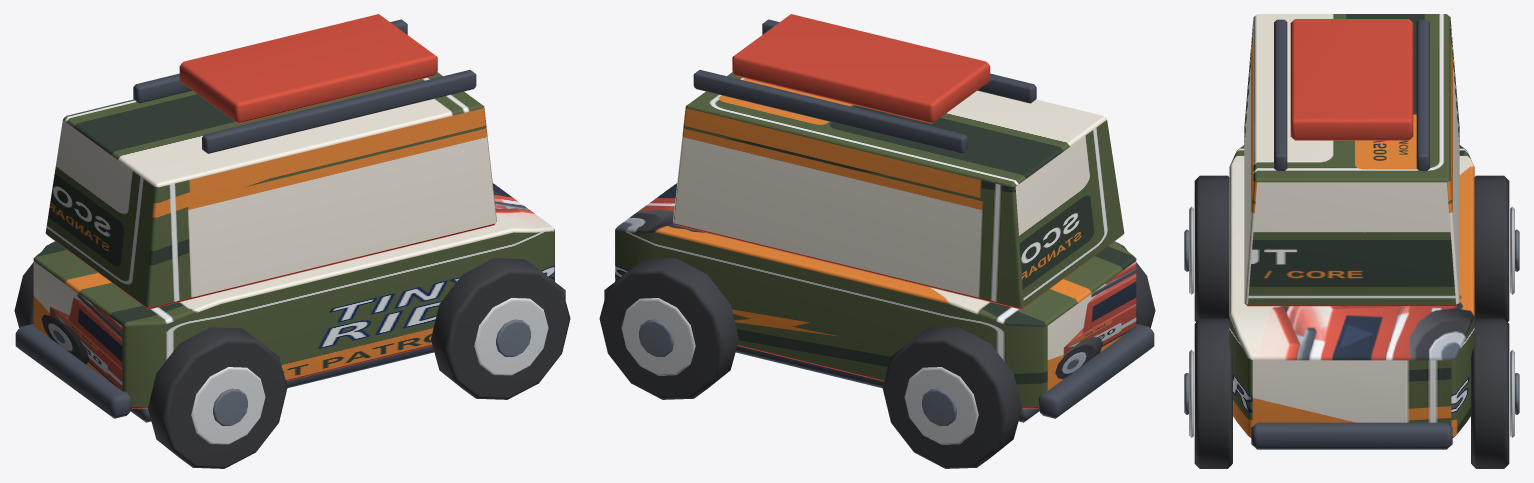
3 views of the same model, side by side, from view 1: azimuth 30°, elevation 25°; view 2: azimuth 150°, elevation 25°; view 3: azimuth 270°, elevation 25° (orthographic). The views are drawn at different scales.
Visible parts, largest first — view 1: DP-05_cabin, DP-05_connected_shell, utility load, Tire, Tire.002, utility rail, front bumper, Rim, Rim.002, underbody, utility rail.001, Hub.002 (+2 smaller); view 2: DP-05_cabin, DP-05_connected_shell, utility load, Tire.001, Tire.003, utility rail.001, front bumper, Rim.001, Rim.003, underbody, utility rail, Hub.003 (+2 smaller); view 3: DP-05_cabin, DP-05_connected_shell, utility load, Tire.002, Tire.003, rear bumper, Tire, Tire.001, utility rail, utility rail.001, Rim.002, Rim.003 (+2 smaller).
Part boxes in pixels (x1=…): DP-05_cabin: x1=45, y1=72, x2=496, y2=309; DP-05_connected_shell: x1=33, y1=183, x2=554, y2=408; utility load: x1=179, y1=14, x2=437, y2=123; Tire: x1=148, y1=327, x2=287, y2=468; Tire.002: x1=431, y1=258, x2=570, y2=399; utility rail: x1=202, y1=70, x2=476, y2=153; front bumper: x1=15, y1=324, x2=131, y2=418; Rim: x1=191, y1=367, x2=265, y2=444; Rim.002: x1=474, y1=298, x2=548, y2=375; underbody: x1=131, y1=346, x2=434, y2=422; utility rail.001: x1=133, y1=19, x2=407, y2=103; Hub.002: x1=496, y1=319, x2=530, y2=356; DP-05_cabin: x1=673, y1=72, x2=1124, y2=309; DP-05_connected_shell: x1=615, y1=183, x2=1136, y2=408; utility load: x1=732, y1=14, x2=990, y2=123; Tire.001: x1=882, y1=327, x2=1021, y2=468; Tire.003: x1=599, y1=258, x2=738, y2=399; utility rail.001: x1=693, y1=70, x2=967, y2=153; front bumper: x1=1038, y1=324, x2=1154, y2=418; Rim.001: x1=904, y1=367, x2=978, y2=444; Rim.003: x1=621, y1=298, x2=695, y2=375; underbody: x1=735, y1=346, x2=1038, y2=422; utility rail: x1=762, y1=19, x2=1036, y2=103; Hub.003: x1=639, y1=319, x2=673, y2=356; DP-05_cabin: x1=1244, y1=14, x2=1459, y2=306; DP-05_connected_shell: x1=1229, y1=145, x2=1474, y2=437; utility load: x1=1290, y1=19, x2=1413, y2=140; Tire.002: x1=1194, y1=318, x2=1232, y2=468; Tire.003: x1=1471, y1=318, x2=1509, y2=468; rear bumper: x1=1251, y1=422, x2=1452, y2=449; Tire: x1=1194, y1=175, x2=1229, y2=321; Tire.001: x1=1474, y1=175, x2=1509, y2=321; utility rail: x1=1274, y1=19, x2=1287, y2=171; utility rail.001: x1=1416, y1=19, x2=1429, y2=171; Rim.002: x1=1189, y1=349, x2=1193, y2=437; Rim.003: x1=1510, y1=349, x2=1514, y2=437.
Size of the model in its own units: 370 by 247 by 227.
